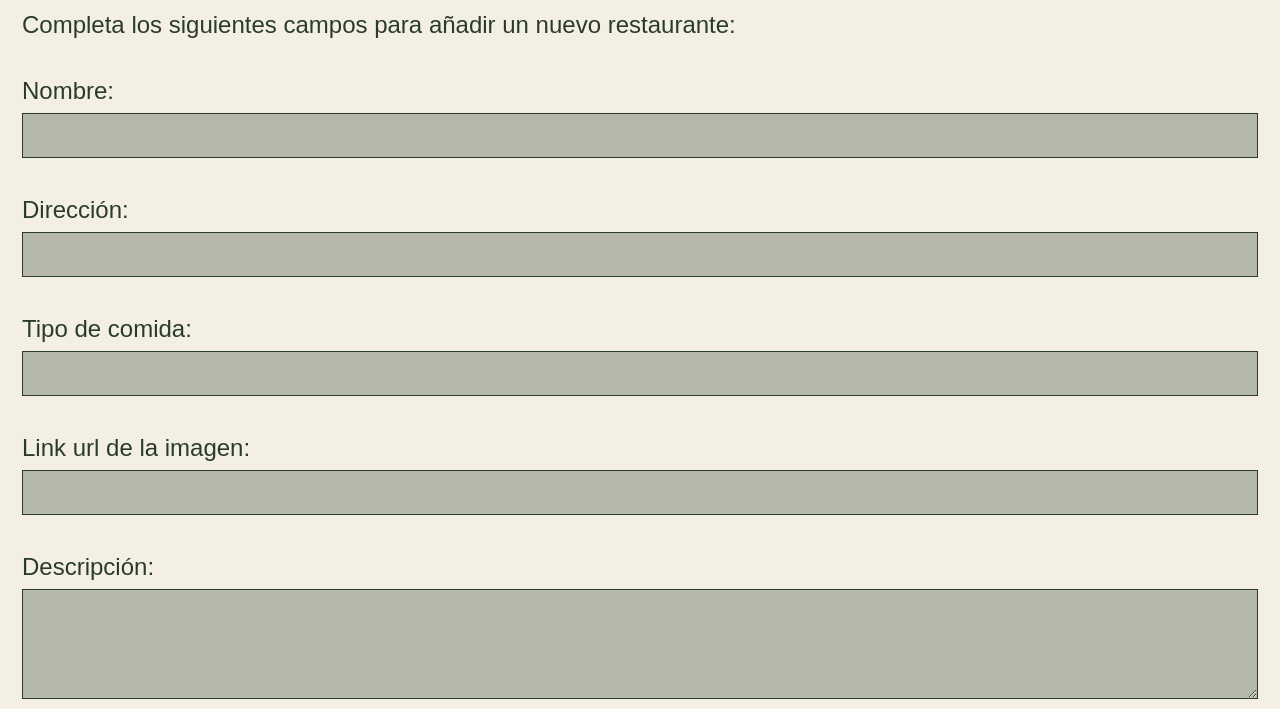
Test case: Given the RestaurantForm component › When it receives an action to add a new restaurant › And the user fills all the required inputs › Then it should show an enabled 'Añadir' button
The width and height of the screenshot is (1280, 709).
Type "Bernie's" into the field labelled "Nombre:". click: (640, 136)
box: [22, 113, 1258, 158]
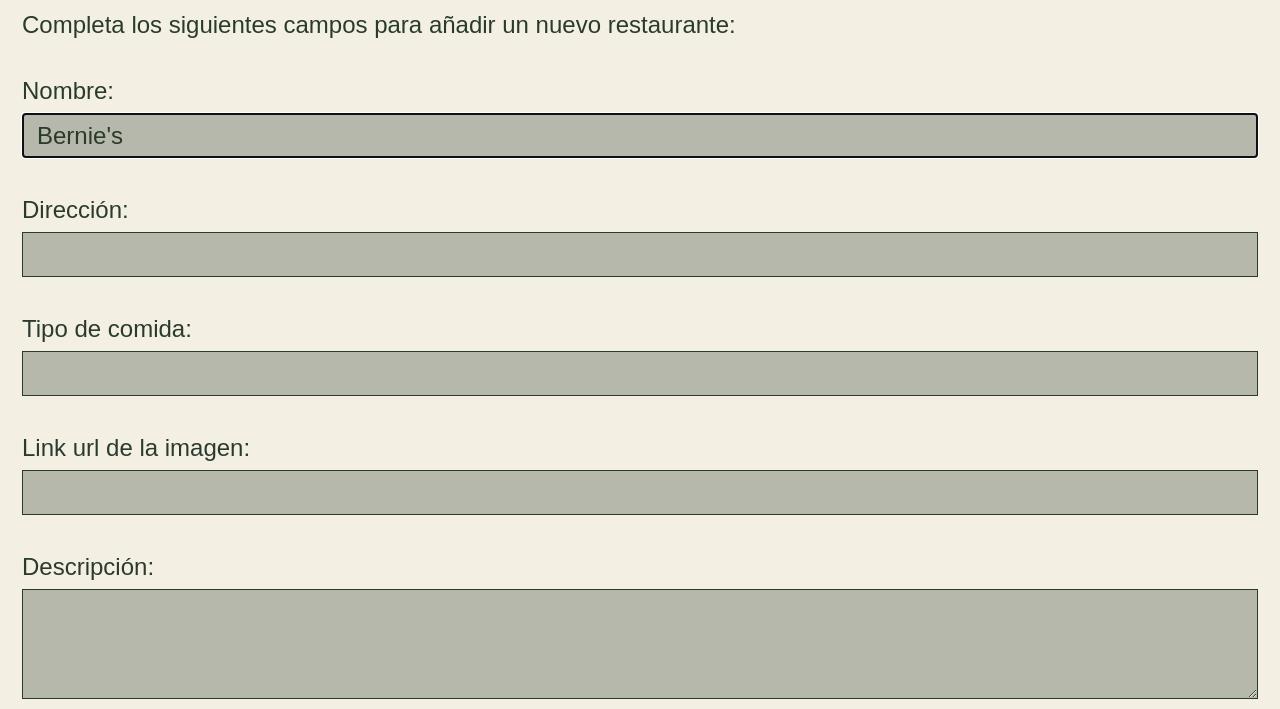
Type "New York" into the field labelled "Dirección:". click: (640, 254)
box: [22, 232, 1258, 277]
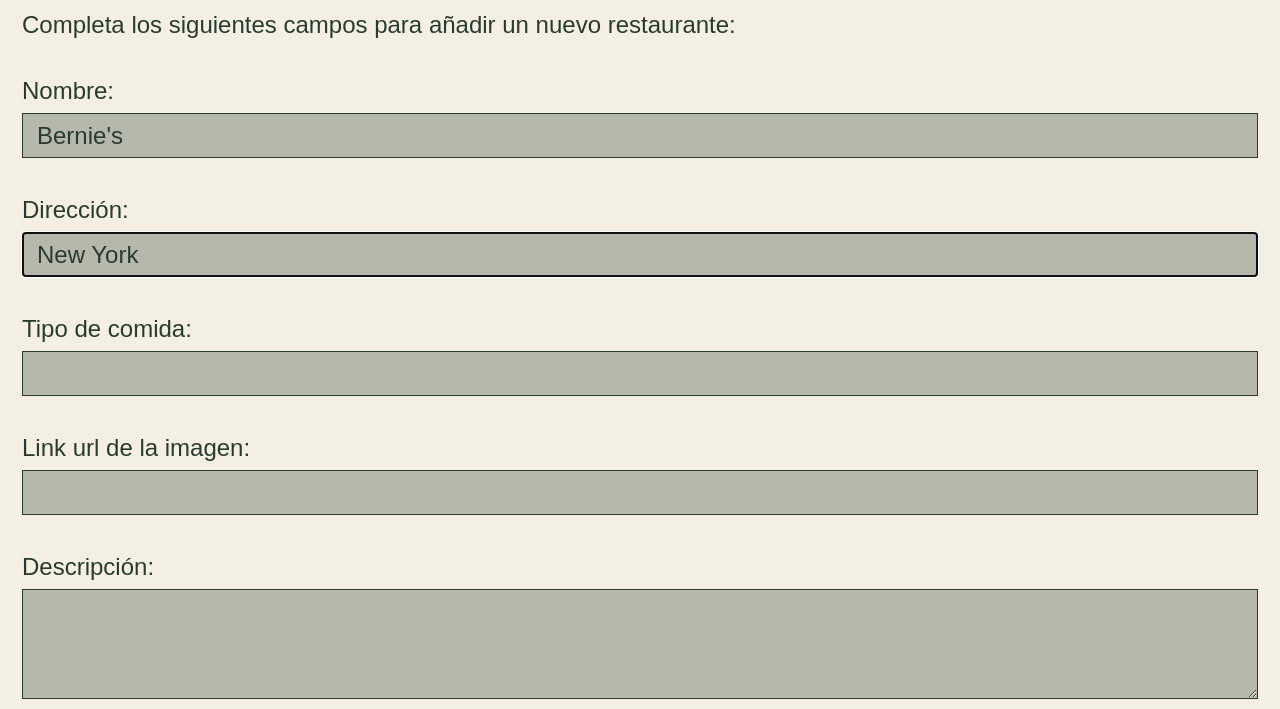
Type "https://www.google.com/" into the field labelled "Link url de la imagen:". click: (640, 492)
box: [22, 470, 1258, 515]
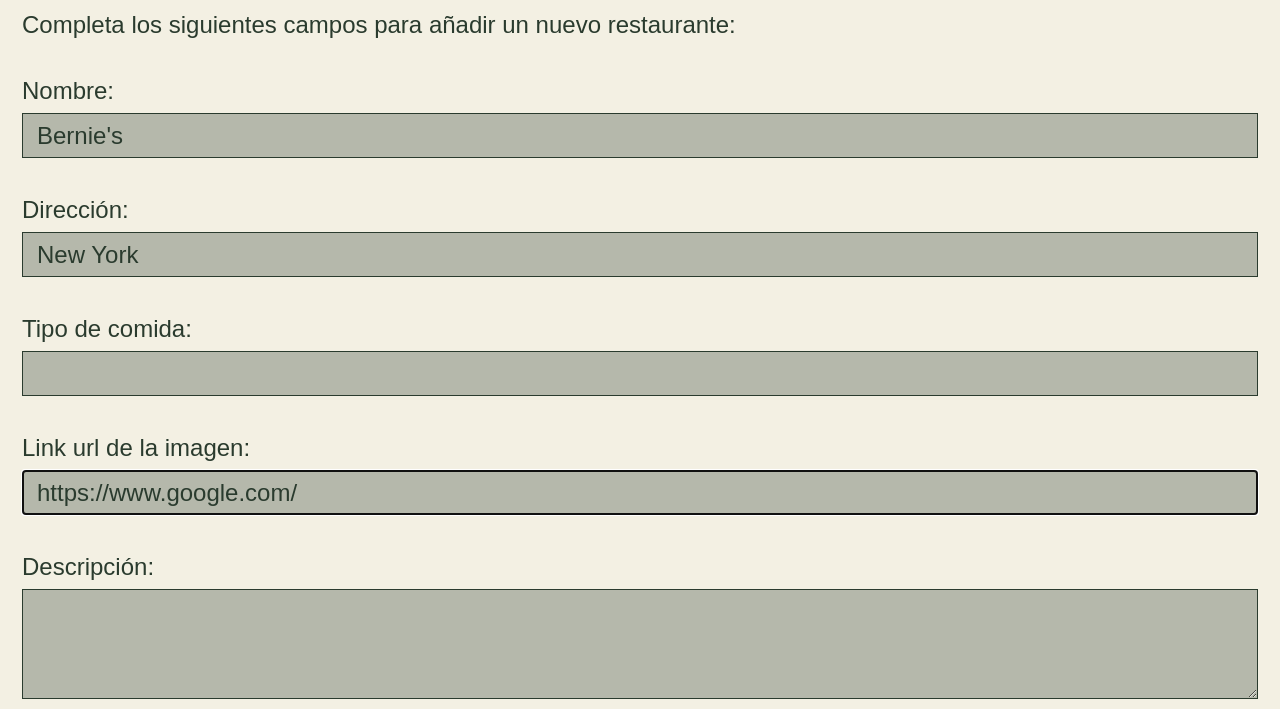
Type "Fried chicken" into the field labelled "Tipo de comida:". click: (640, 374)
box: [22, 351, 1258, 396]
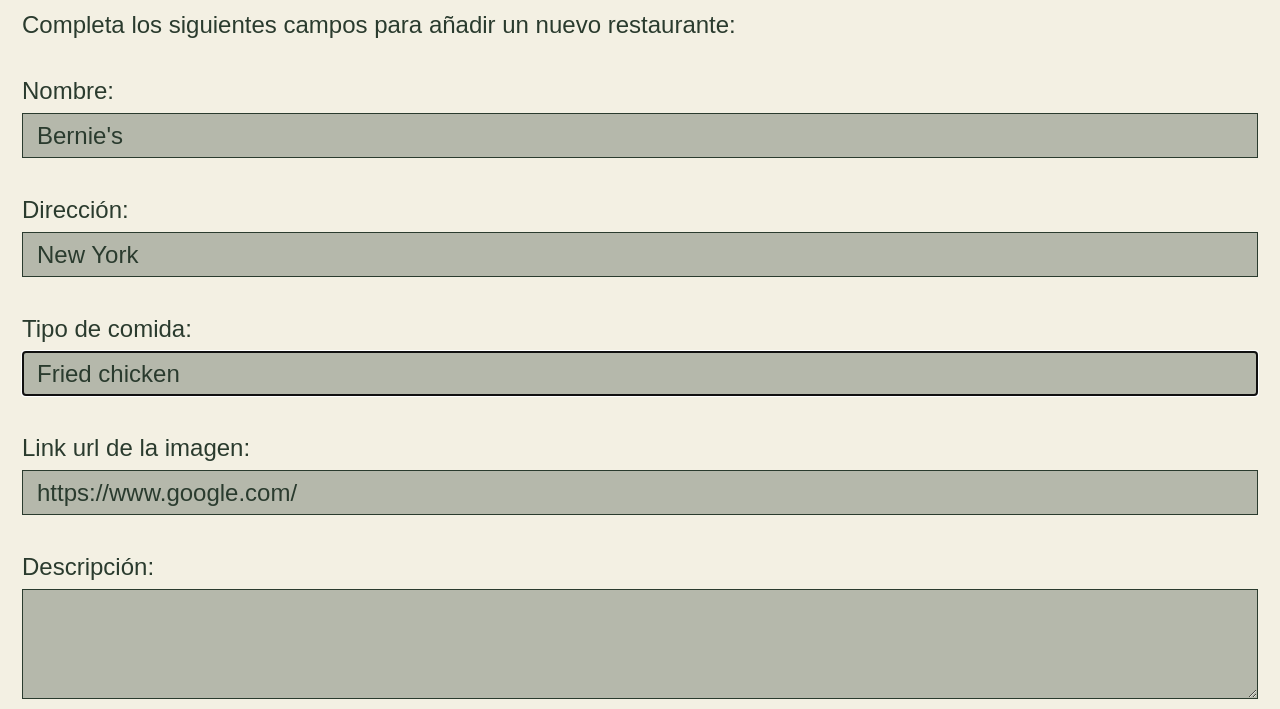
Type "I'ts delicious" into the text box labelled "Descripción:". click: (640, 644)
box: [22, 589, 1258, 699]
(page scrolled)
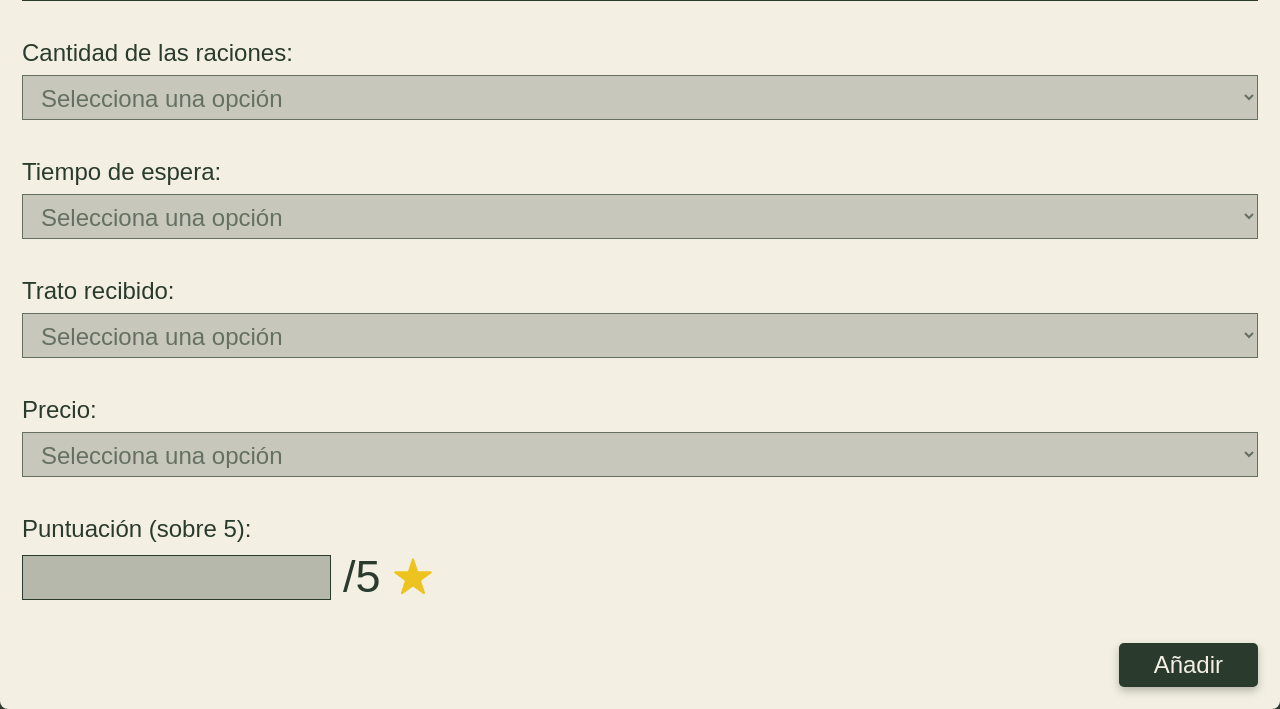
Expected: the button "Añadir" is enabled, [1119, 643, 1258, 687]
